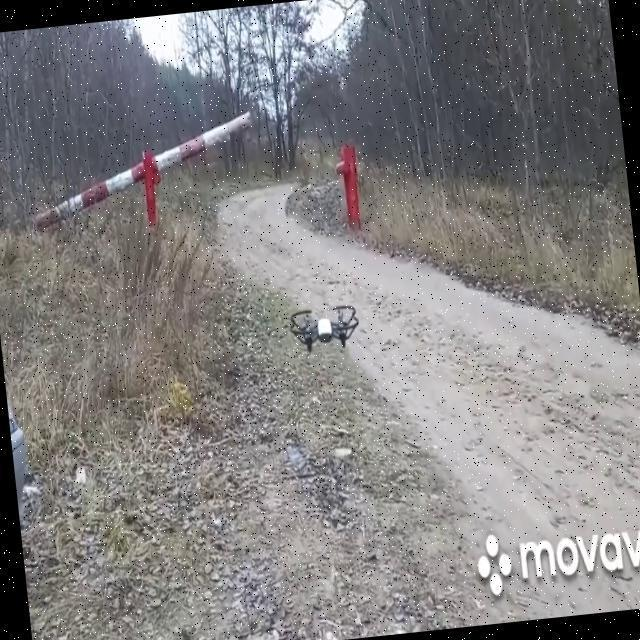Drons: (286, 301, 362, 354)
